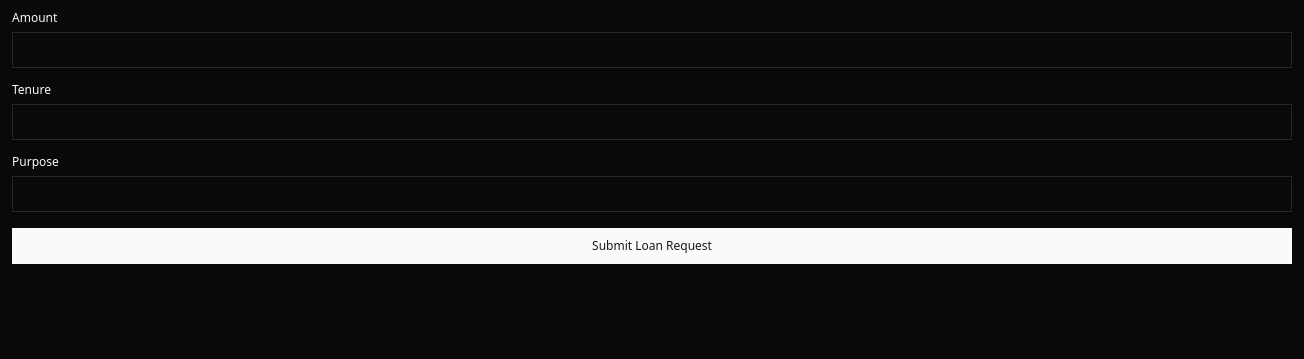
Test: LoanForm › shows validation error for incorrect input types
Type "invalid" into the field labelled "Amount" at x=652, y=50, box [12,32,1292,68]
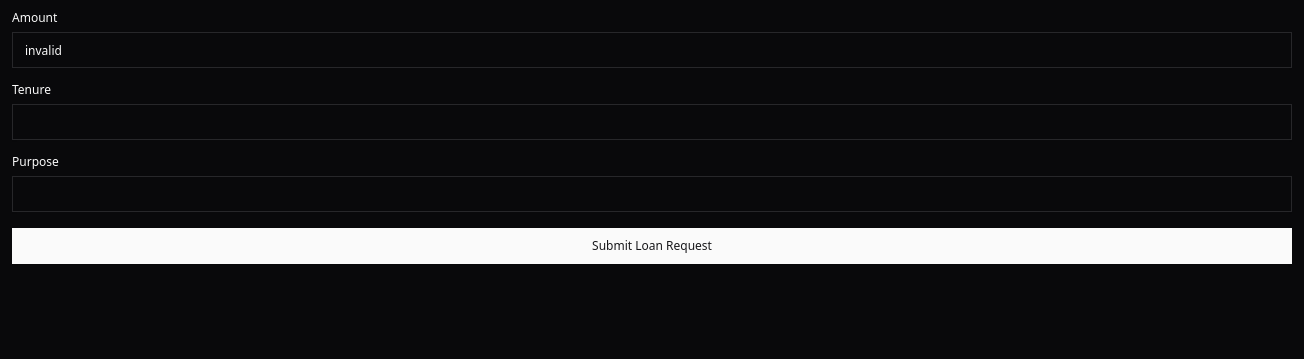
Type "-10" into the field labelled "Tenure" at x=652, y=122, box [12,104,1292,140]
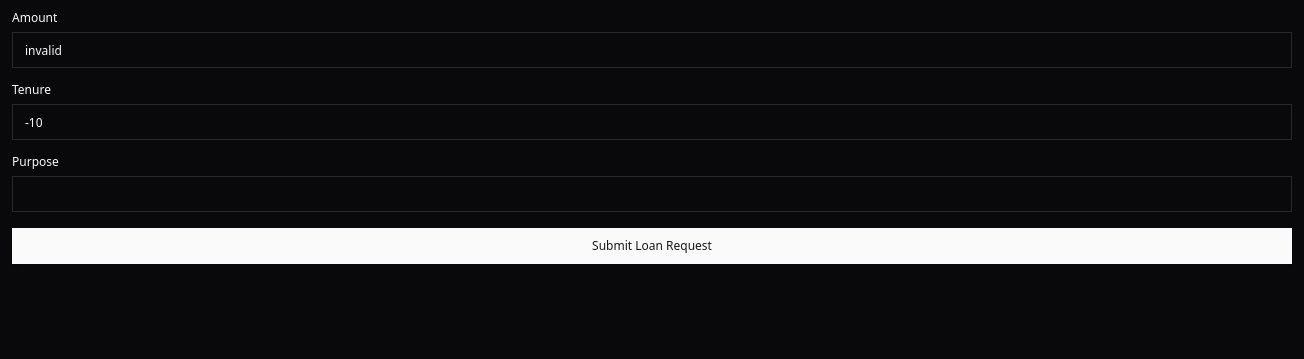
Type "123" into the field labelled "Purpose" at x=652, y=194, box [12,176,1292,212]
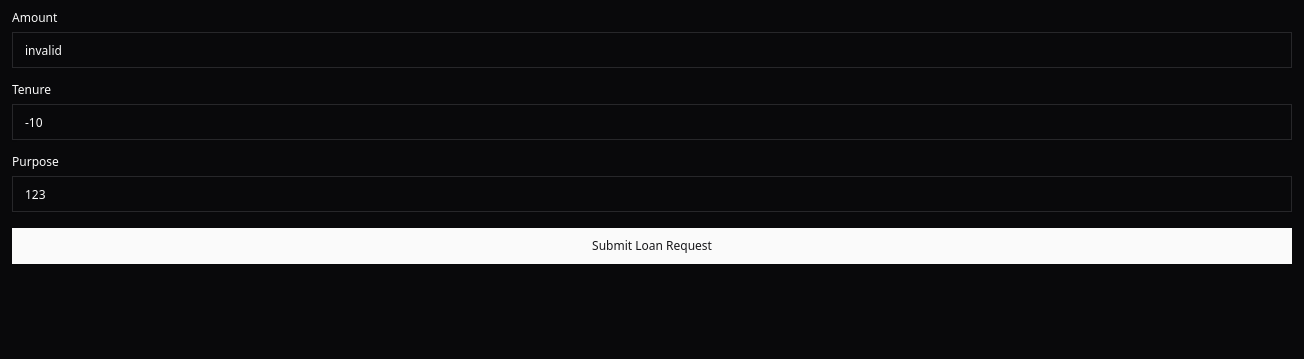
Leave the field labelled "Purpose", box [12,176,1292,212]
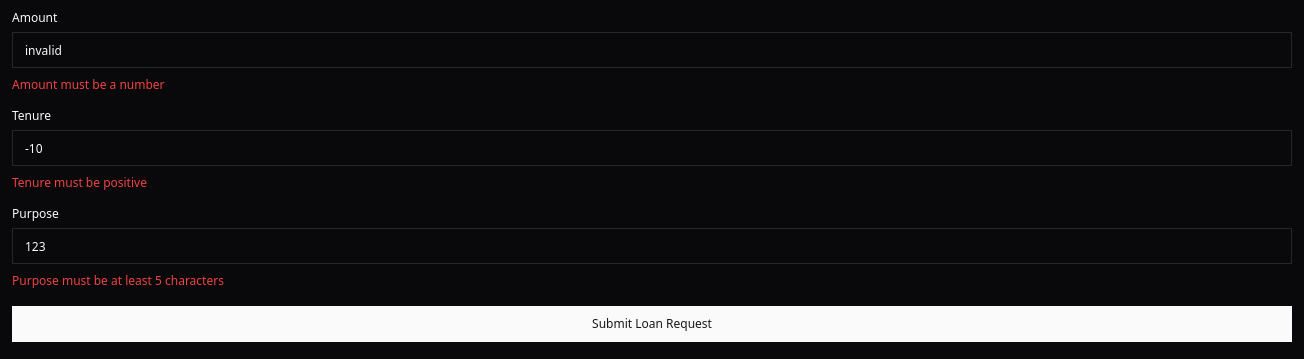
Expected: the text "Amount must be a number" is shown, [12,76,164,93]
Expected: the text "Tenure must be positive" is shown, [12,174,147,191]
Expected: the text "Purpose must be at least 5 characters" is shown, [12,272,224,289]
